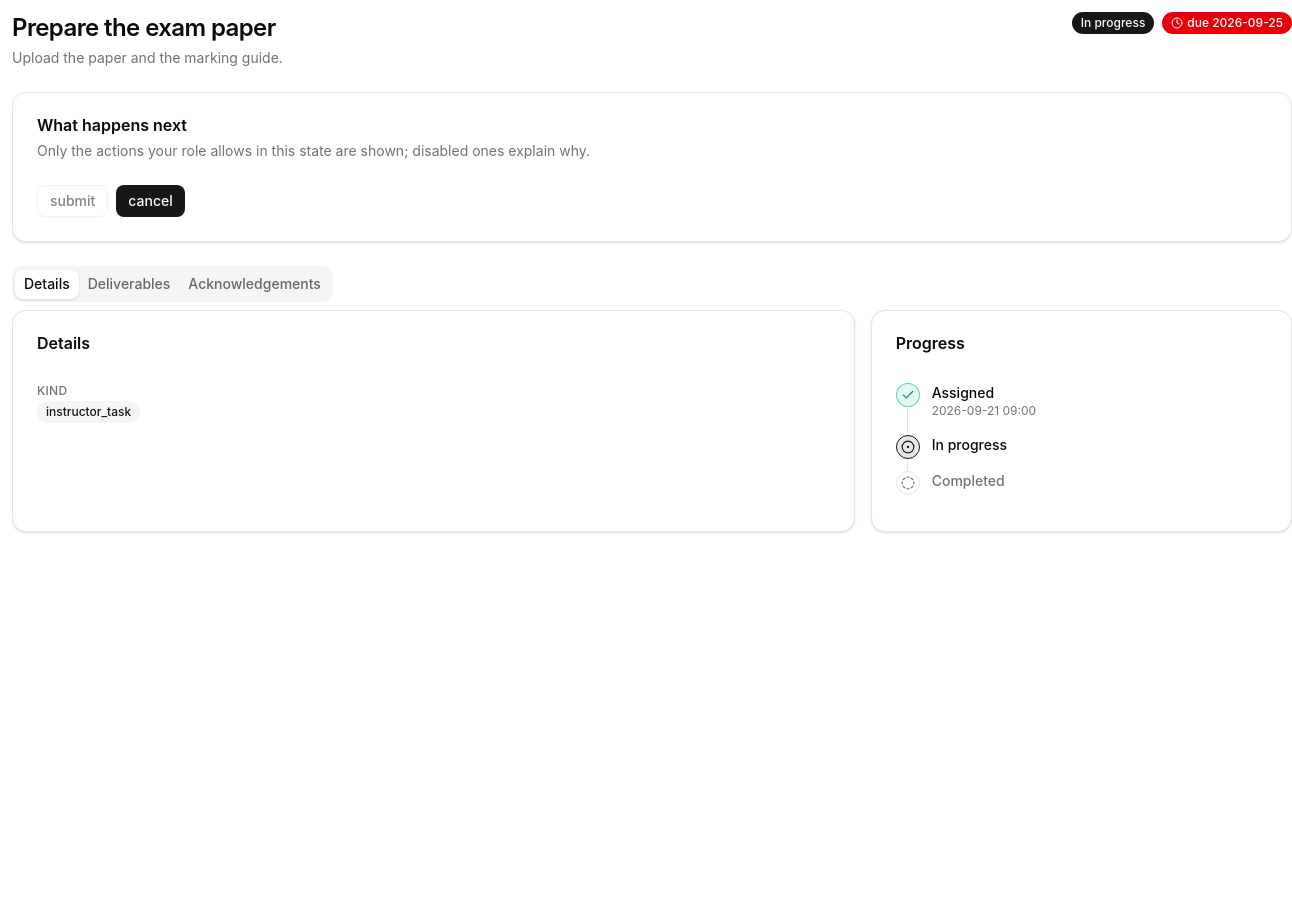
it: RecordDetail › disables an action that a guard blocks and explains why
The image size is (1292, 912).
Expected: the button "submit" is disabled, x1=37 y1=185 x2=108 y2=217
Click the button "cancel".
click(150, 201)  # box x1=116 y1=185 x2=185 y2=217
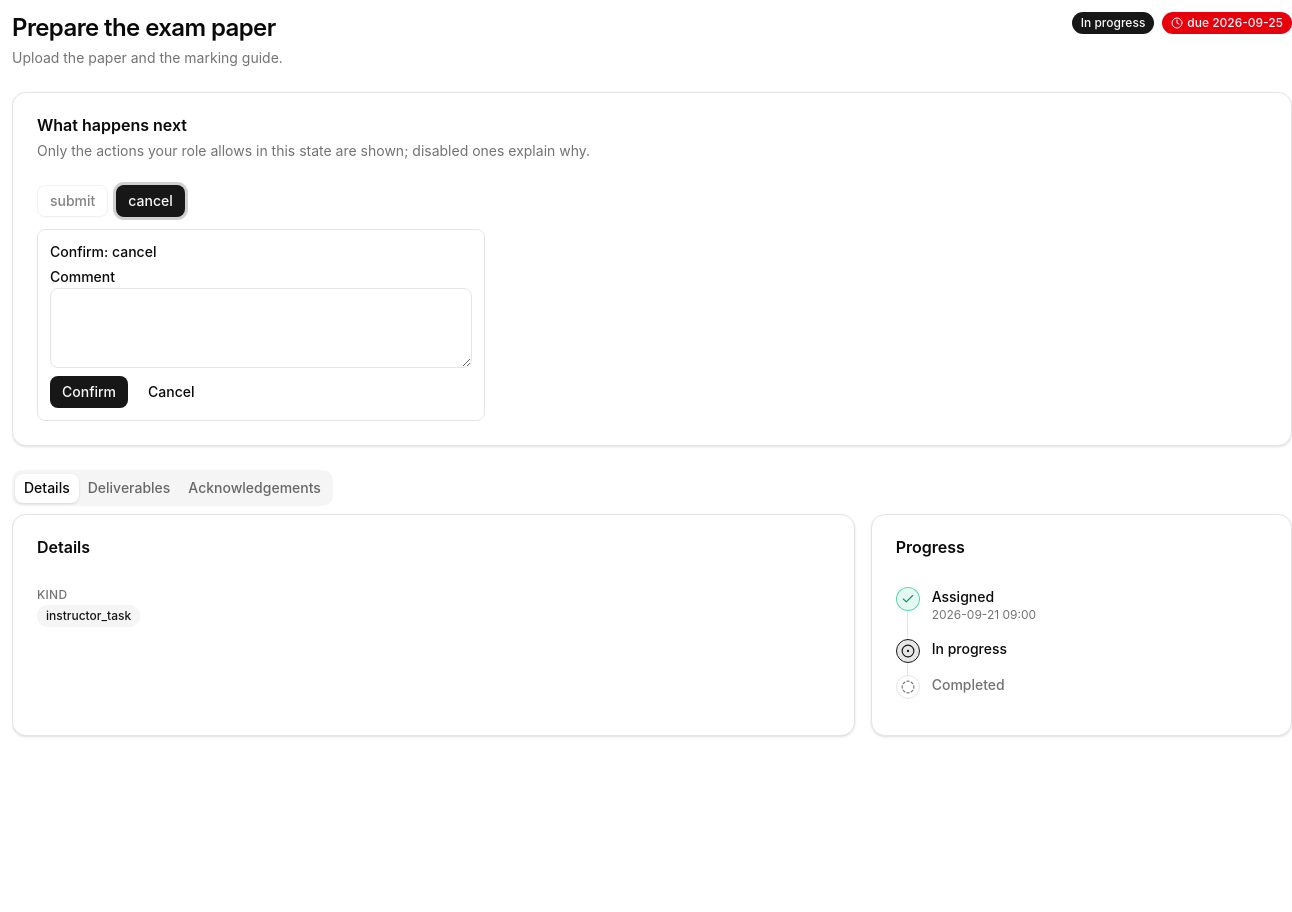
Now the text box labelled "Comment" is shown, box x1=50 y1=288 x2=472 y2=368
